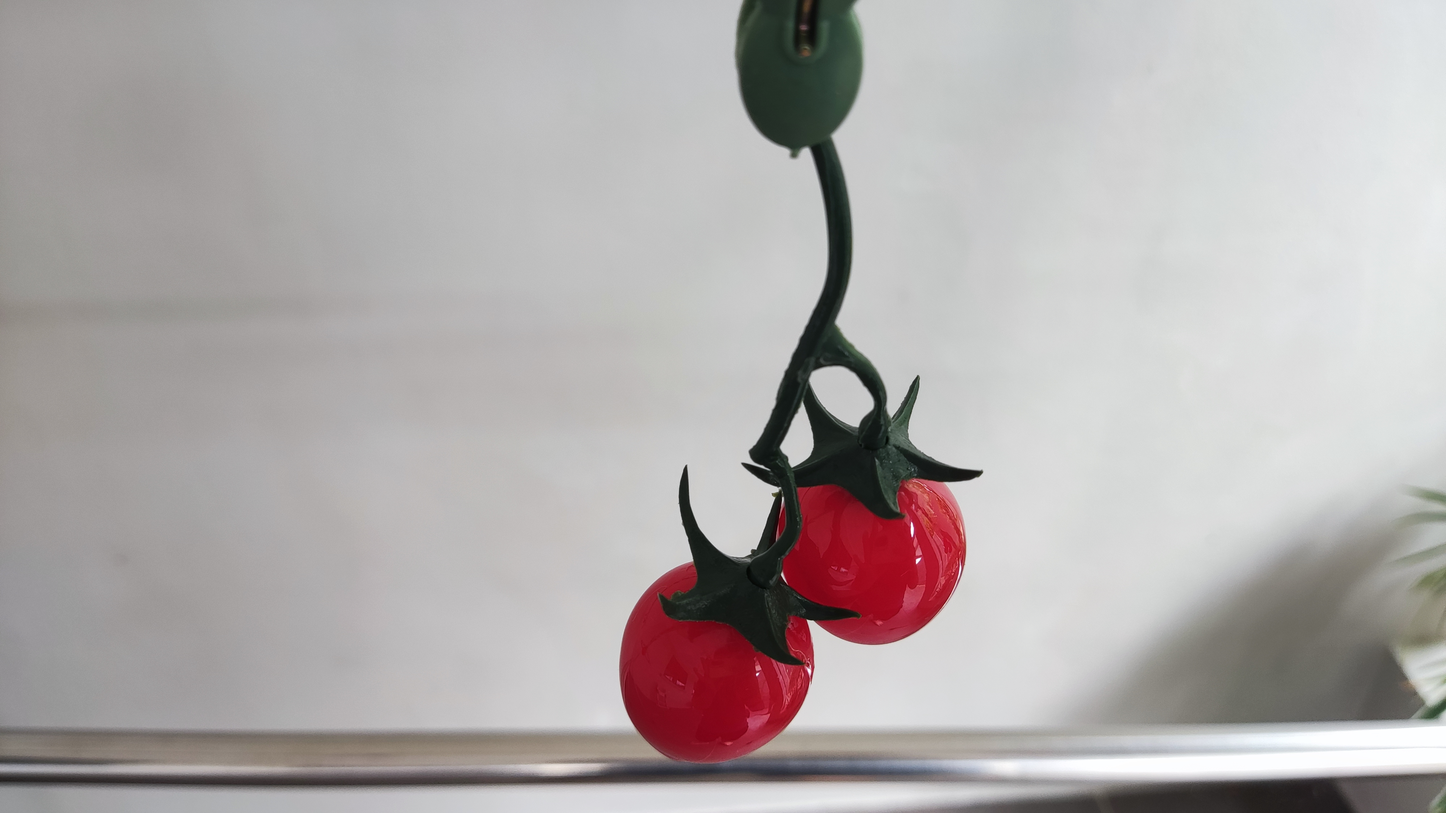peduncle: (809, 136, 853, 322)
strawberry: (619, 563, 815, 763), (783, 478, 967, 644)
